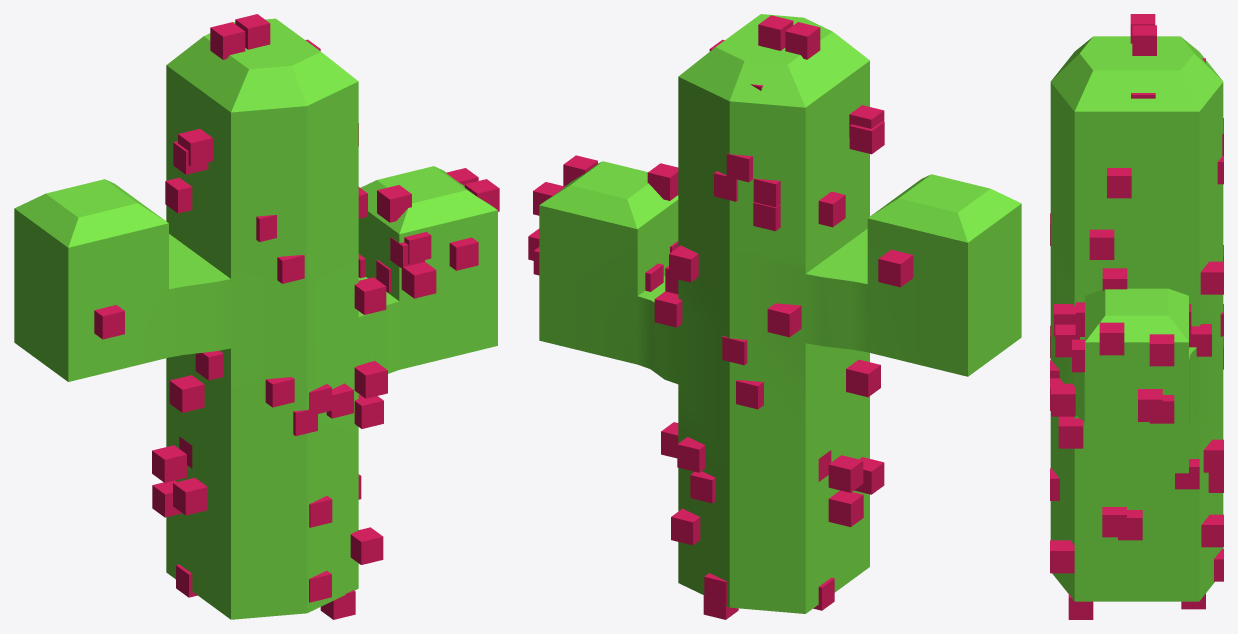
File: fondos cactus.fbx
3 views of the same model, side by side, from view 1: azimuth 30°, elevation 25°; view 2: azimuth 150°, elevation 25°; view 3: azimuth 270°, elevation 25° (orthographic). The views are drawn at different scales.
Visible parts, largest first — view 1: Cactus; view 2: Cactus; view 3: Cactus.
Boxes of the visible parts, x1,y1,x2,y2 form: Cactus: (14, 14, 499, 619); Cactus: (528, 14, 1021, 619); Cactus: (1050, 14, 1223, 619).
Size of the model in its own units: 308 by 376 by 106.
